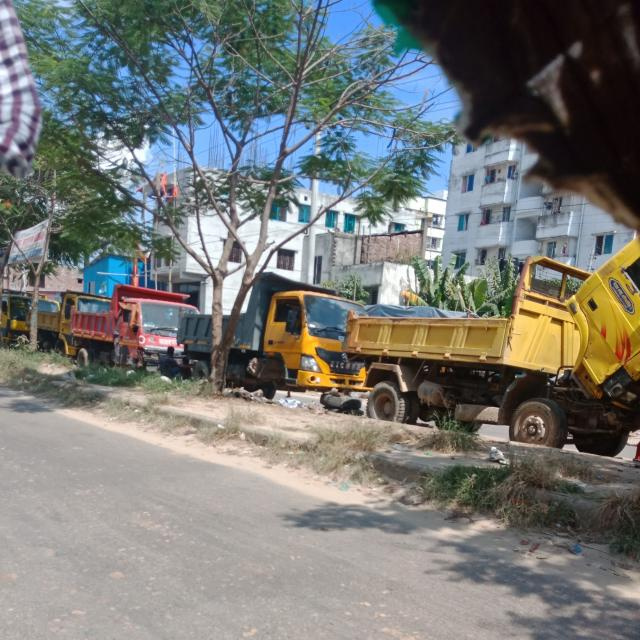truck: (350, 240, 640, 470), (182, 264, 353, 400), (78, 275, 185, 378), (35, 276, 94, 355), (2, 280, 42, 348)
